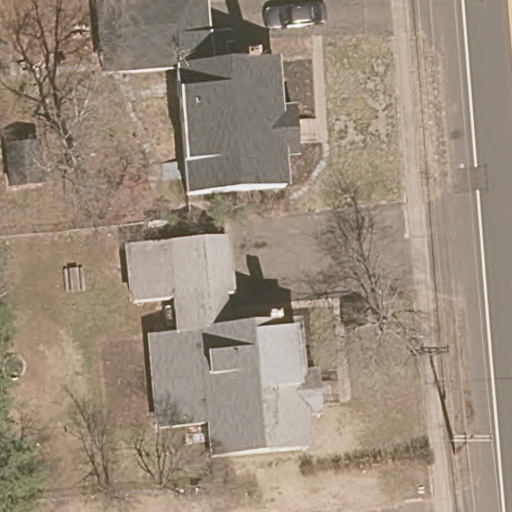DT: (450, 432, 493, 456)
